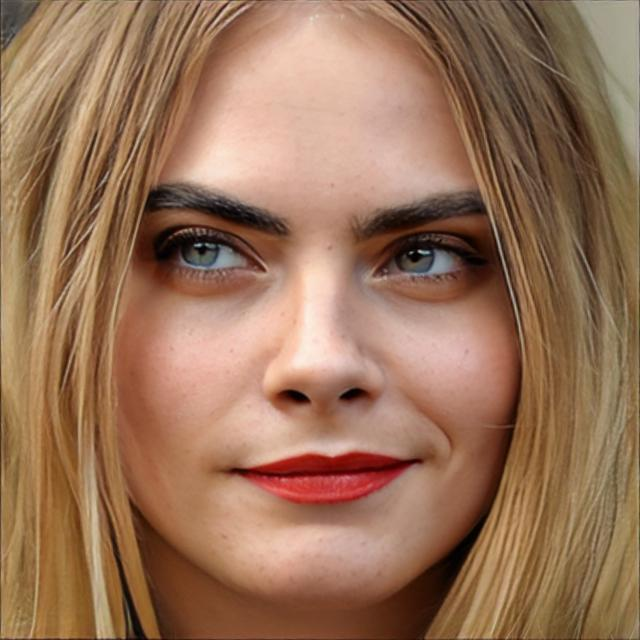content: (100, 0, 527, 608)
